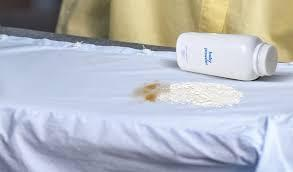mustard: (131, 81, 161, 107)
